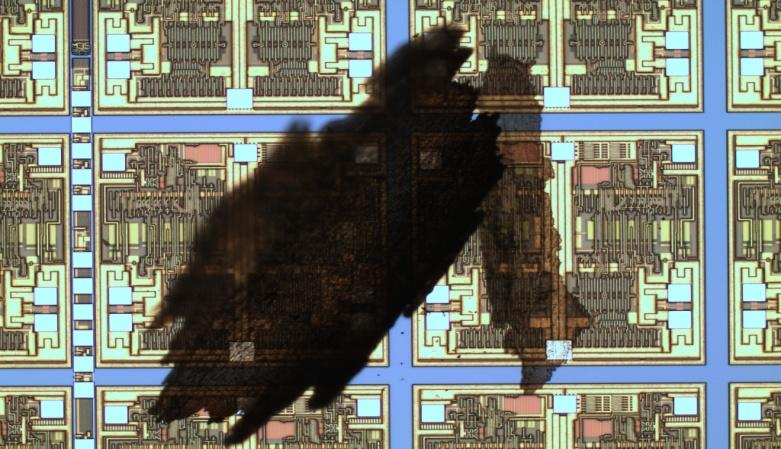PO CONTAMINATION: (138, 14, 597, 449)
